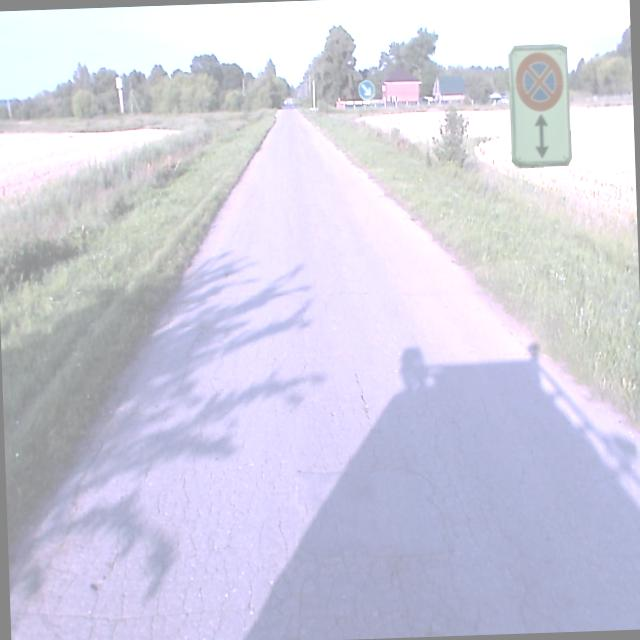road: (8, 103, 640, 640)
